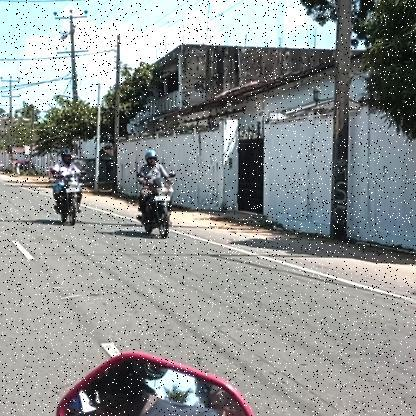motorcycle: (134, 178, 176, 240), (52, 174, 86, 226)
